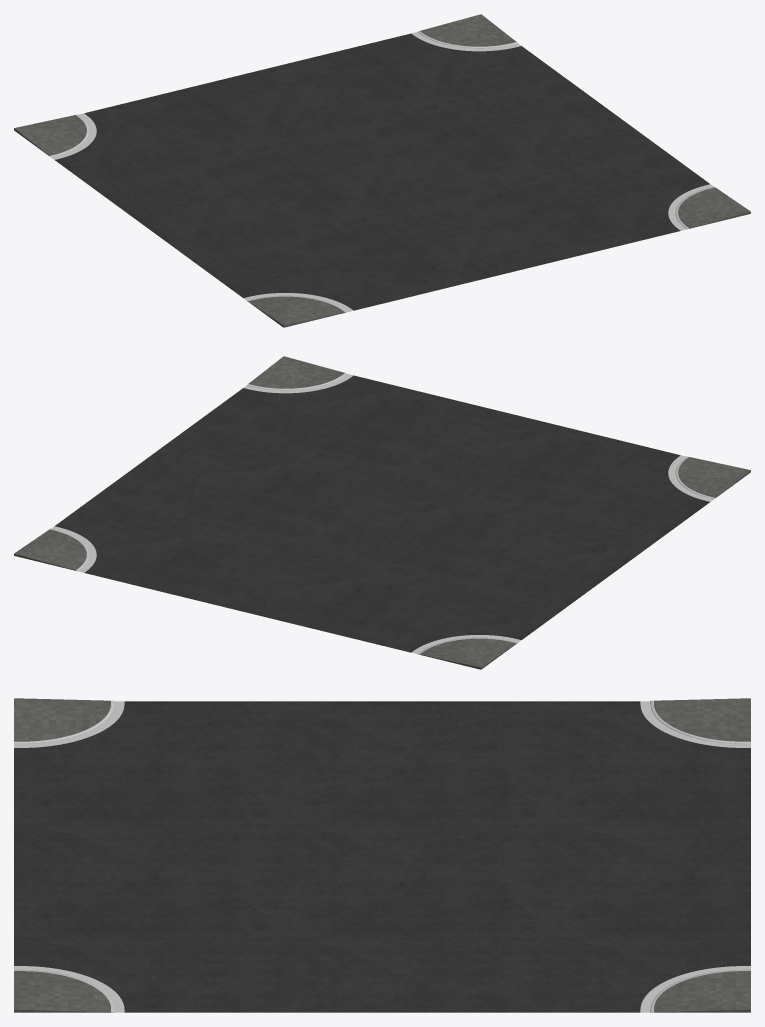
The model's file is jcRoadCross22mA.fbx.
3 renders of one model, top to bottom at view 1: azimuth 30°, elevation 25°; view 2: azimuth 150°, elevation 25°; view 3: azimuth 270°, elevation 25°, orthographic. The views are drawn at different scales.
Parts seen in each view (by area): view 1: jcRoadCross22mA; view 2: jcRoadCross22mA; view 3: jcRoadCross22mA.
Part boxes in pixels (x1=…): jcRoadCross22mA: x1=14, y1=14, x2=750, y2=327; jcRoadCross22mA: x1=14, y1=356, x2=750, y2=669; jcRoadCross22mA: x1=14, y1=698, x2=750, y2=1012.
Size of the model in its own units: 2200 by 10 by 2200.
